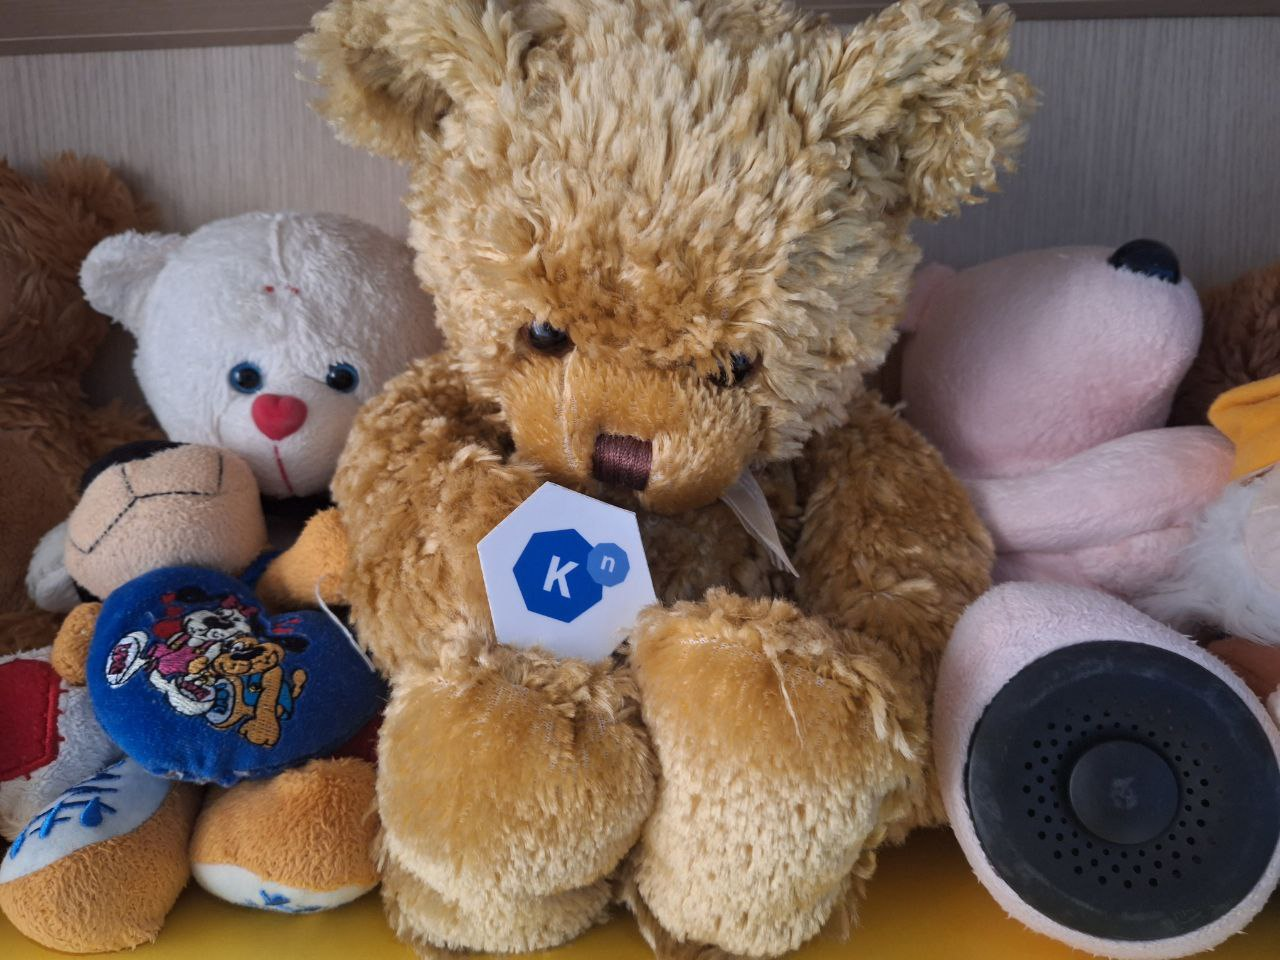knative: (511, 527, 633, 626)
